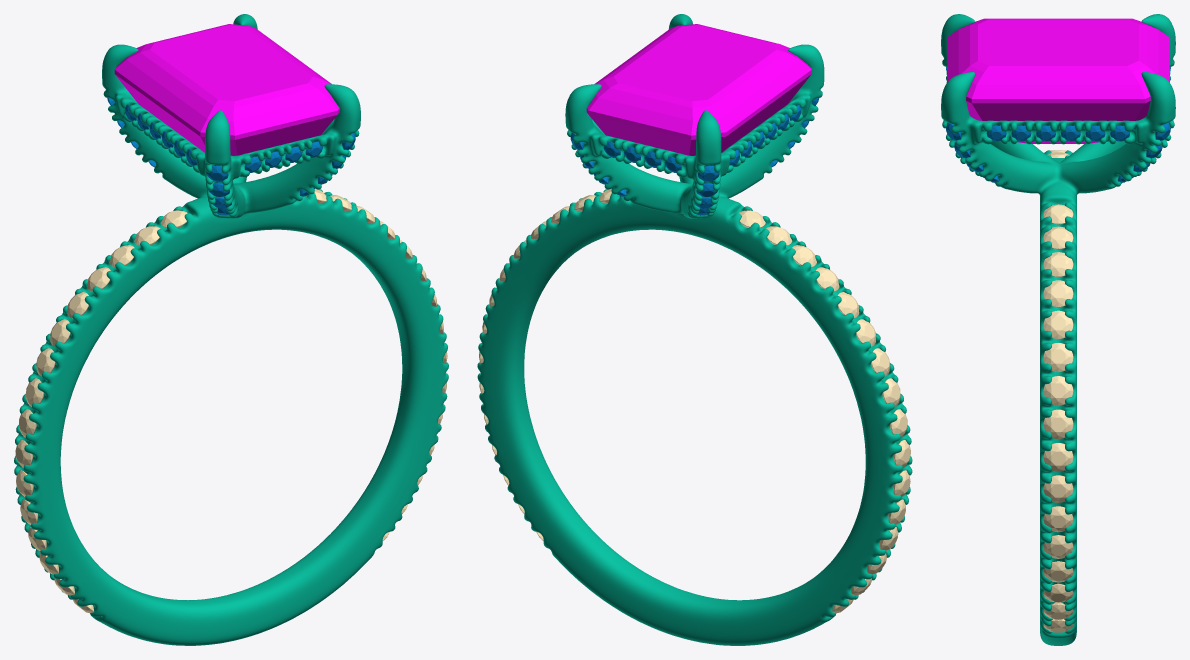
The model's file is BE1D129_EM_200ct_RENDER.glb.
3 renders of one model, left to right at view 1: azimuth 30°, elevation 25°; view 2: azimuth 150°, elevation 25°; view 3: azimuth 270°, elevation 25°, orthographic.
Parts seen in each view (by area): view 1: Metal 01, CS_Diamond_Emerald; view 2: Metal 01, CS_Diamond_Emerald; view 3: Metal 01, CS_Diamond_Emerald, Diamond_Round_Gem_SH.022, Diamond_Round_Gem_SH.023, Diamond_Round_Gem_SH.021, Diamond_Round_Gem_SH.024, Diamond_Round_Gem_SH.020, Diamond_Round_Gem_SH.025, Diamond_Round_Gem_SH.019, Diamond_Round_Gem_SH.026, Diamond_Round_Gem_SH.018, Diamond_Round_Gem_SH.027 (+4 smaller).
Boxes of the visible parts, box(x1,y1,x2,y2) form: Metal 01: box(14, 14, 448, 645); CS_Diamond_Emerald: box(114, 24, 339, 155); Metal 01: box(477, 14, 912, 645); CS_Diamond_Emerald: box(586, 24, 811, 155); Metal 01: box(941, 14, 1175, 645); CS_Diamond_Emerald: box(947, 18, 1169, 143); Diamond_Round_Gem_SH.022: box(1043, 376, 1073, 405); Diamond_Round_Gem_SH.023: box(1043, 409, 1073, 438); Diamond_Round_Gem_SH.021: box(1043, 343, 1073, 371); Diamond_Round_Gem_SH.024: box(1043, 443, 1073, 471); Diamond_Round_Gem_SH.020: box(1043, 310, 1073, 339); Diamond_Round_Gem_SH.025: box(1043, 475, 1073, 502); Diamond_Round_Gem_SH.019: box(1043, 280, 1073, 307); Diamond_Round_Gem_SH.026: box(1043, 506, 1073, 532); Diamond_Round_Gem_SH.018: box(1043, 252, 1073, 277); Diamond_Round_Gem_SH.027: box(1043, 535, 1073, 558).
Bounding box in the file's own units: 20.08 × 25.94 × 9.51.
